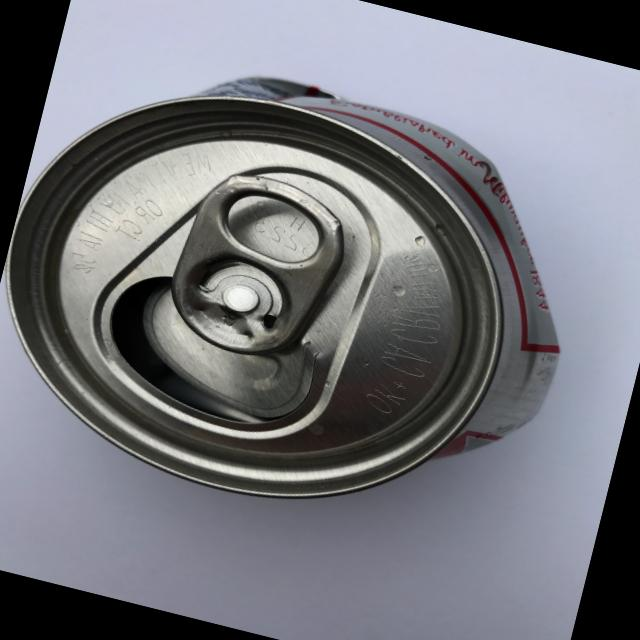Metal: (0, 8, 623, 579)
